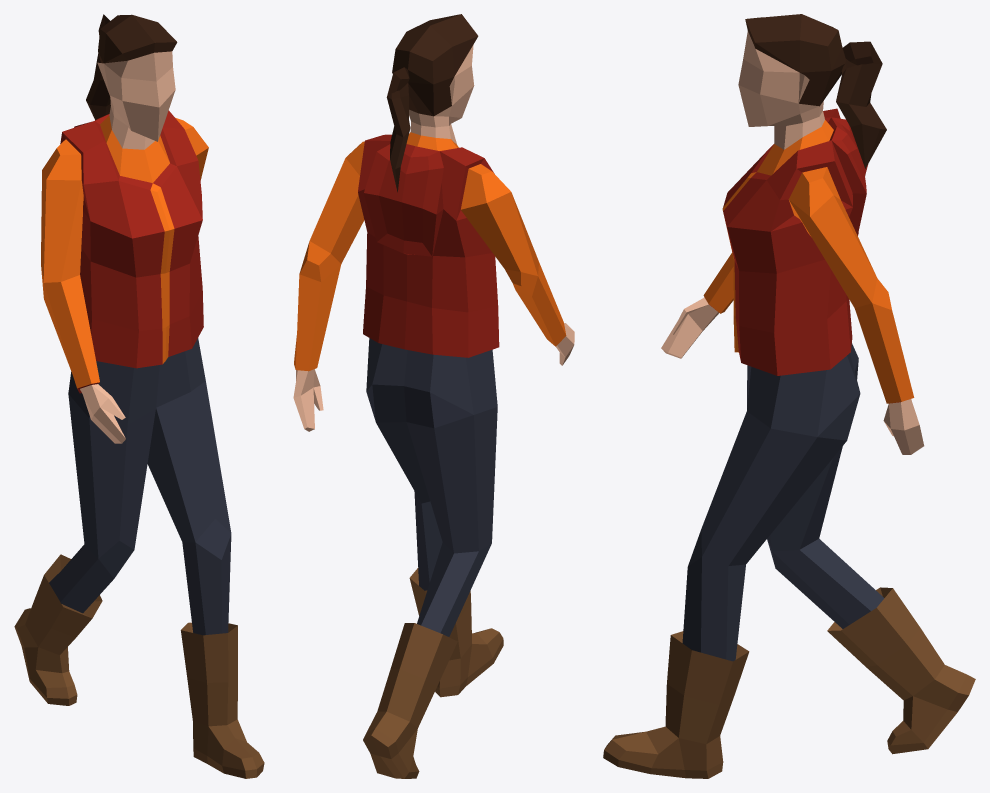
File: AutumnWomanA.005.glb
The picture shows the model from 3 angles, left to right: view 1: azimuth 30°, elevation 25°; view 2: azimuth 150°, elevation 25°; view 3: azimuth 270°, elevation 25°; orthographic projection. The views are drawn at different scales.
Parts seen in each view (by area): view 1: AutumnWomanA.005; view 2: AutumnWomanA.005; view 3: AutumnWomanA.005.
Boxes of the visible parts, bbox=[...] form: AutumnWomanA.005: bbox=[14, 14, 264, 778]; AutumnWomanA.005: bbox=[293, 14, 574, 778]; AutumnWomanA.005: bbox=[603, 14, 975, 778].
Bounding box in the file's own units: 0.4669 × 1.67 × 0.7553.
1 material, 1 textured.
